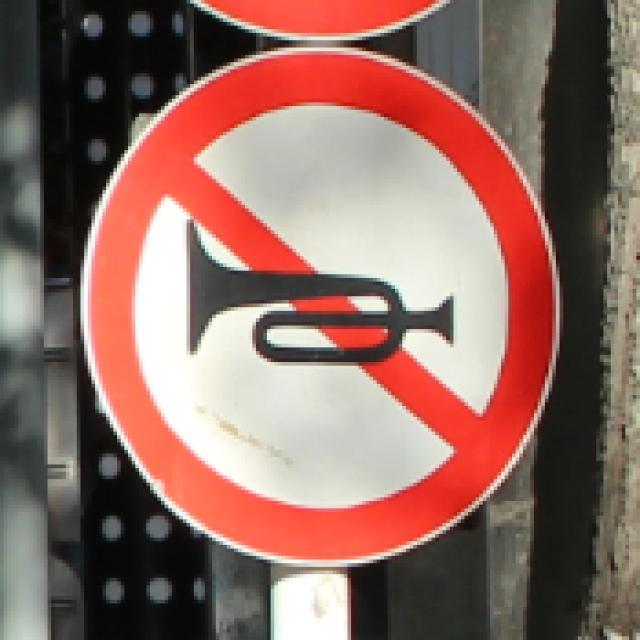No Horn: (73, 48, 560, 572)
